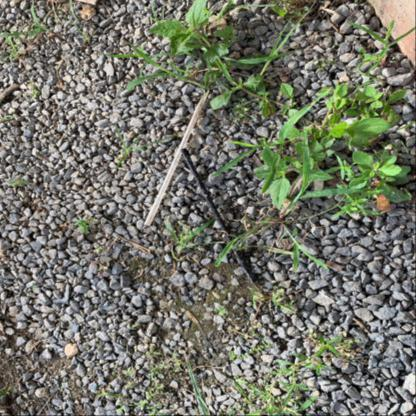Cigarette: (375, 180, 391, 210)
Straw: (180, 150, 257, 284), (144, 91, 209, 226)
